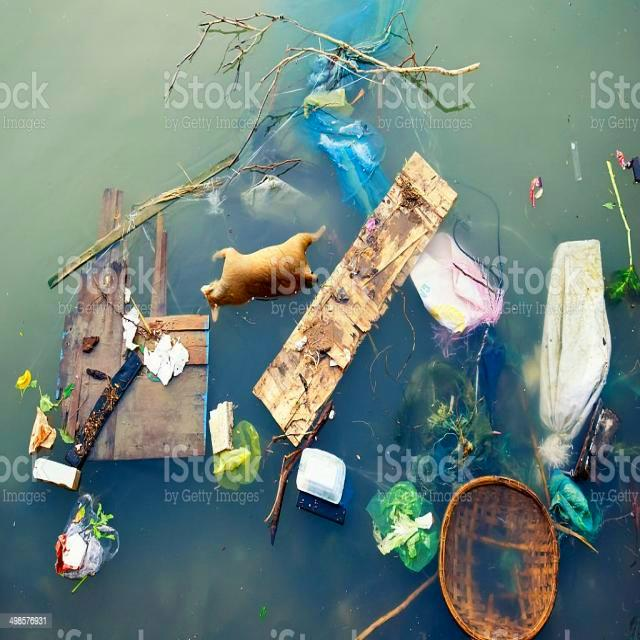Trash: (429, 459, 554, 640), (538, 235, 611, 480), (411, 222, 510, 335), (299, 96, 392, 201), (48, 493, 128, 599), (371, 468, 436, 578), (201, 402, 268, 492), (293, 443, 356, 511), (550, 469, 605, 538), (143, 327, 190, 384), (24, 456, 87, 487)
